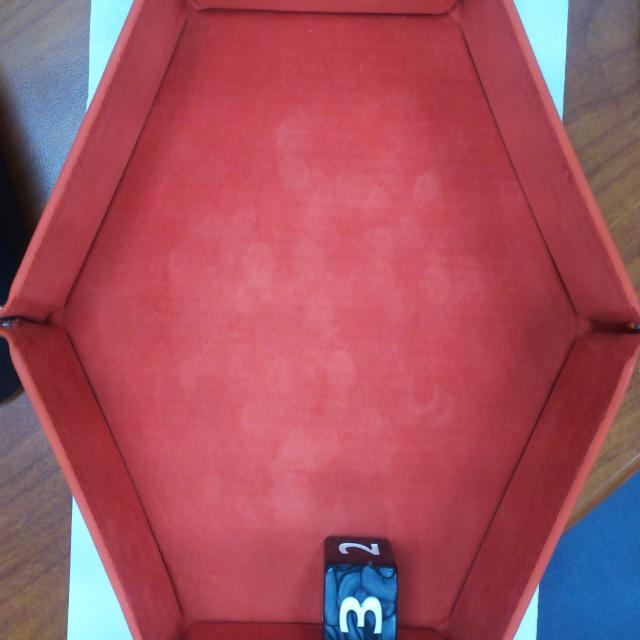dice: (324, 565, 398, 639)
